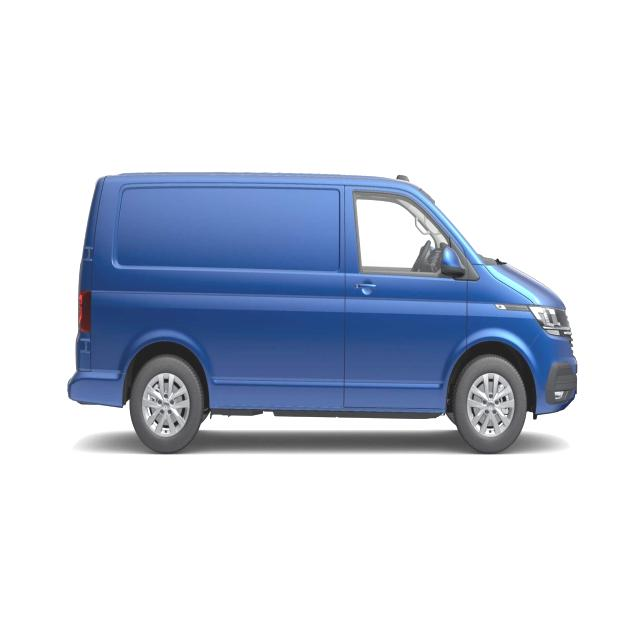Van: (63, 165, 580, 452)
